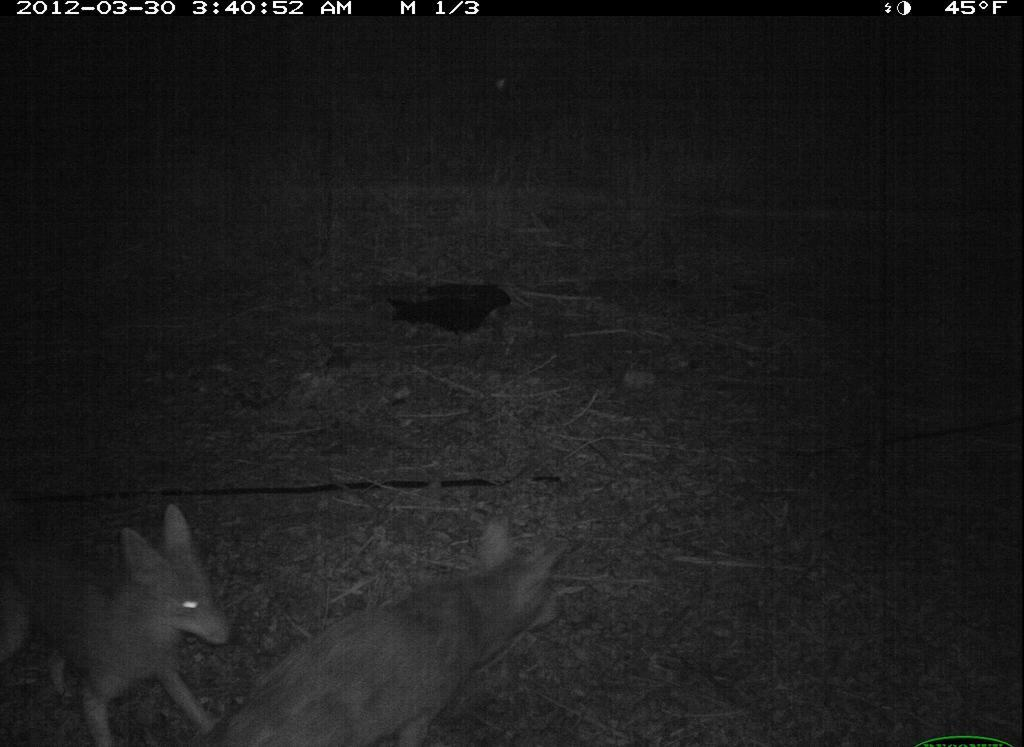coyote: (221, 504, 577, 738), (11, 500, 236, 740)
